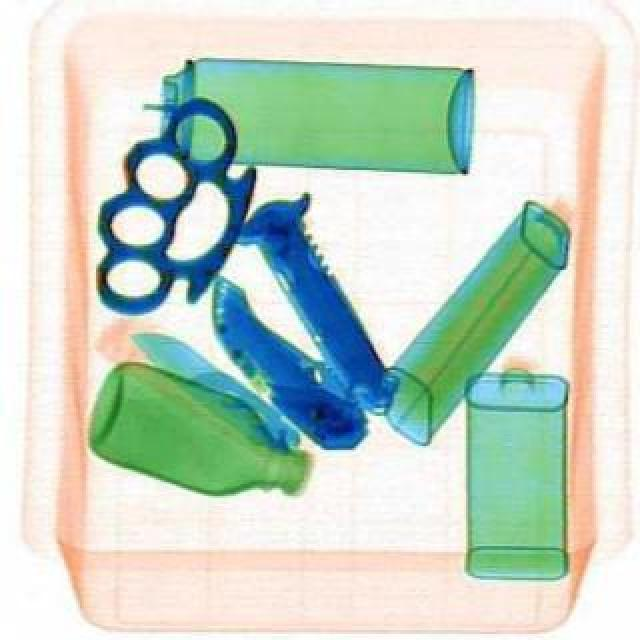knife: (50, 82, 292, 346), (178, 276, 380, 468), (234, 198, 402, 426), (118, 320, 306, 468)
